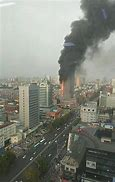smoke: (57, 1, 115, 77)
